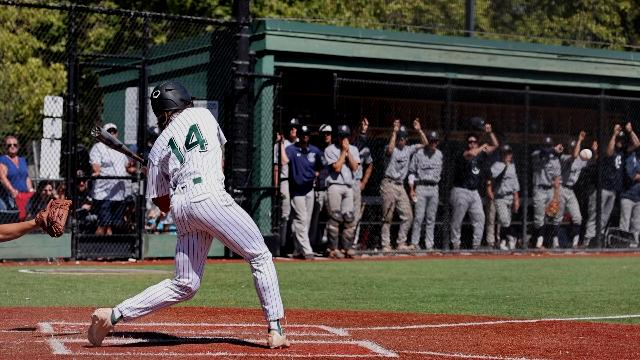ball: (580, 148, 594, 162)
bat: (92, 125, 146, 165)
